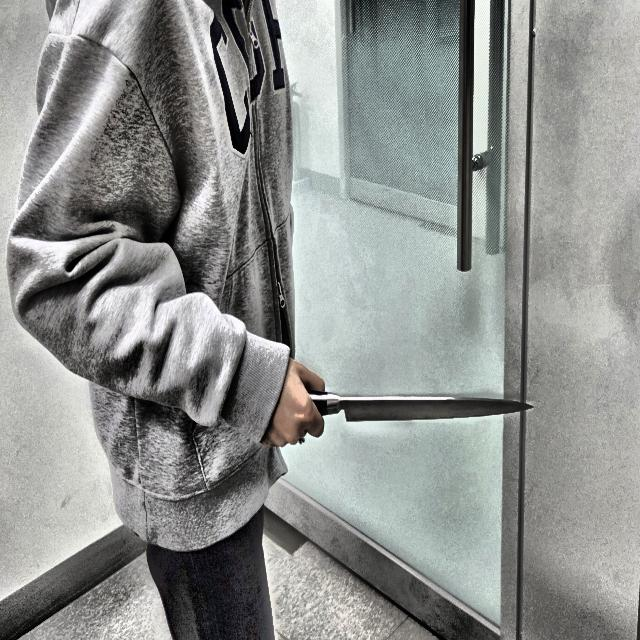knife: (302, 384, 536, 432)
